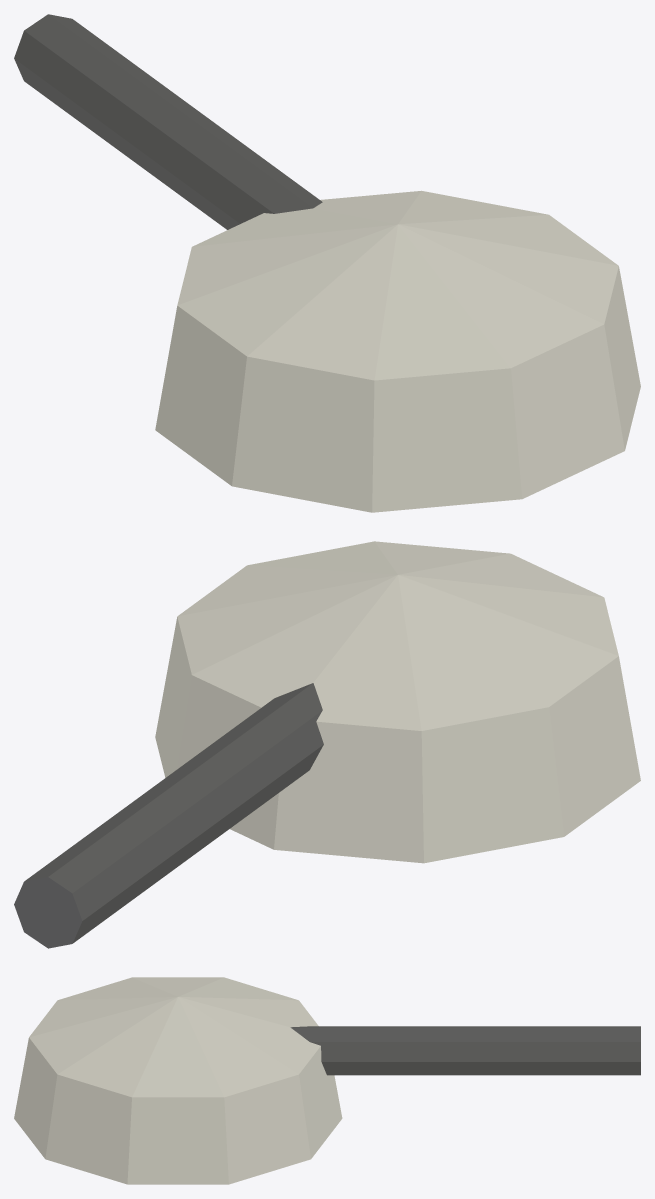
Rendered from Building_Turret_AutoMiniTurret__Top.glb.
3 renders of one model, top to bottom at view 1: azimuth 30°, elevation 25°; view 2: azimuth 150°, elevation 25°; view 3: azimuth 270°, elevation 25°, orthographic. The views are drawn at different scales.
Parts seen in each view (by area): view 1: Turret_AutoMiniTurret__Top; view 2: Turret_AutoMiniTurret__Top; view 3: Turret_AutoMiniTurret__Top.
Part boxes in pixels (x1,y1,x2,y2): Turret_AutoMiniTurret__Top: (14,14,640,512); Turret_AutoMiniTurret__Top: (14,541,640,948); Turret_AutoMiniTurret__Top: (14,977,640,1184).
Size of the model in its own units: 0.4185 by 0.18 by 0.84.
1 material, 1 textured.
